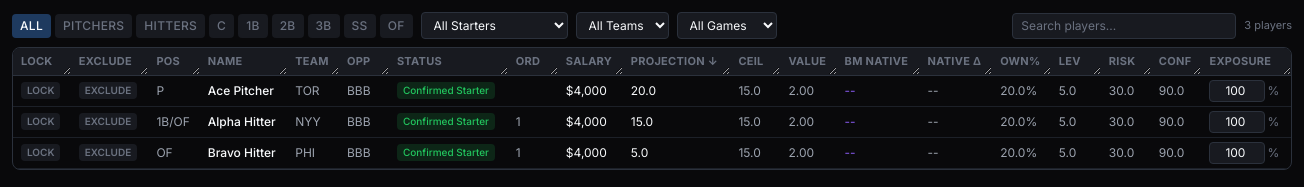
PoolTable › the Pitchers tab shows only pitchers
Click the button "Pitchers".
click(94, 26)  # box [55,14,132,38]
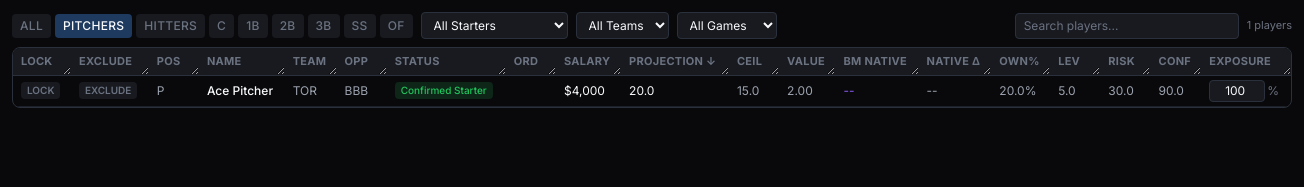
Expected: the button "Ace Pitcher" is shown, [207,83,273,99]
Expected: the button "Bravo Hitter" is gone
